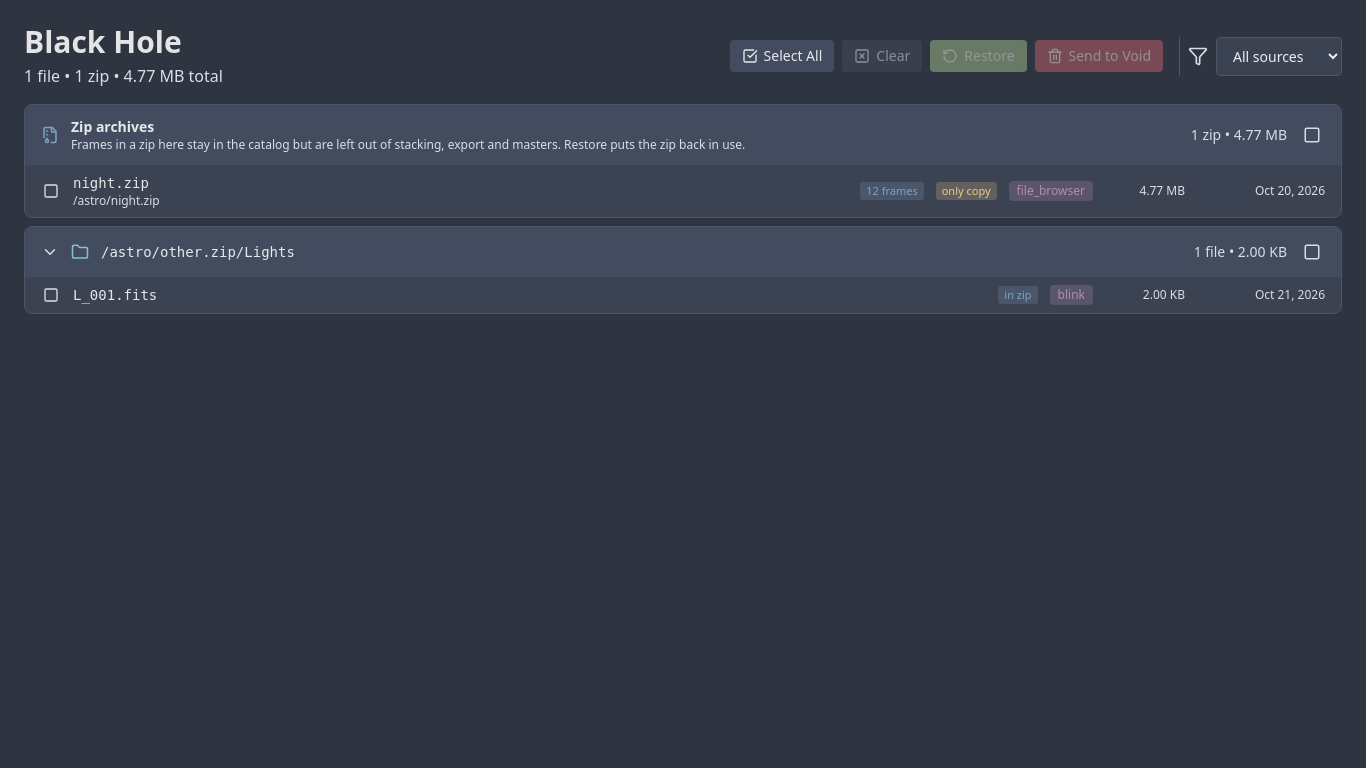
Scenario: BlackHole — zip archives › shows the refusal when a single zip frame cannot be voided
Expected: the element with test id "zip-group" is shown, [24,104,1342,218]
Expected: the text "in zip" is shown, [998,286,1038,304]
Click the button "Select All": (782, 56) [730,40,834,72]
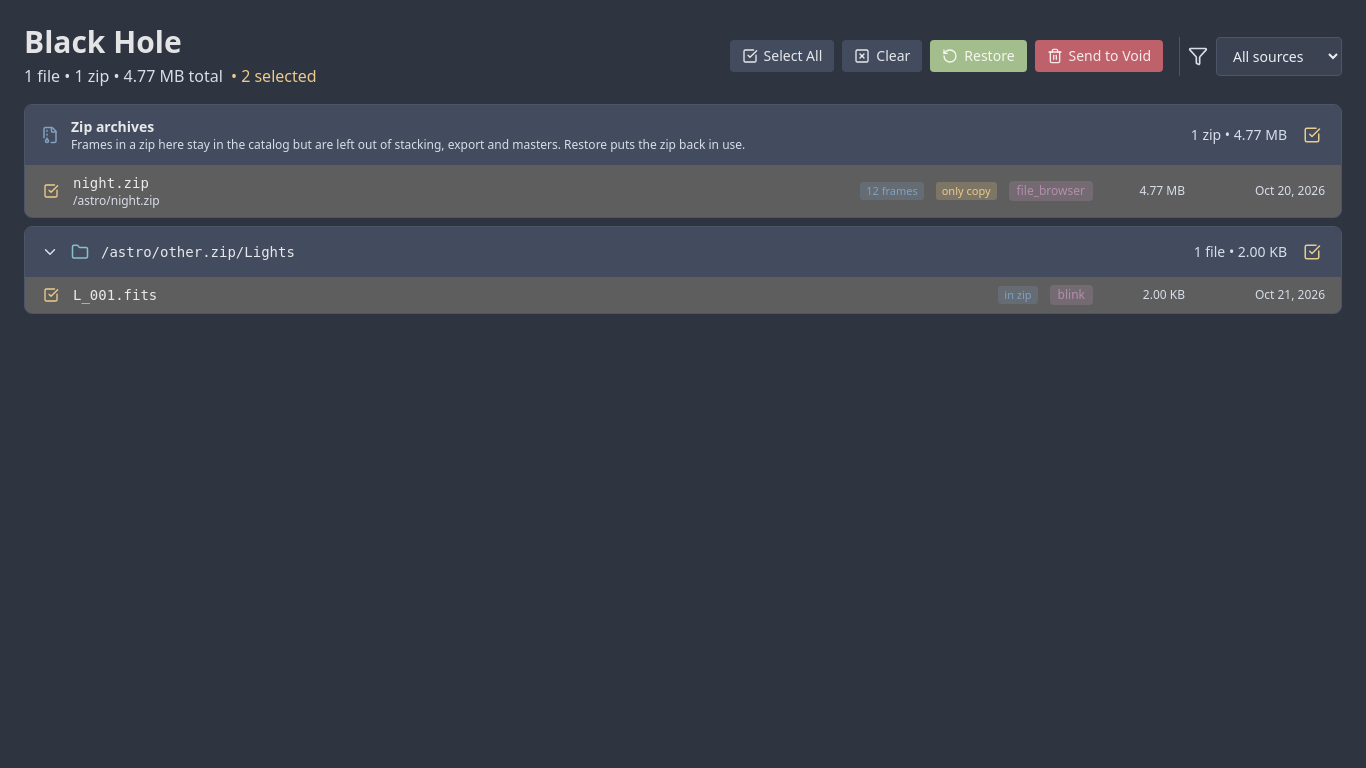
Click the button named "Deselect all zips": (1312, 135) [1299,122,1325,148]
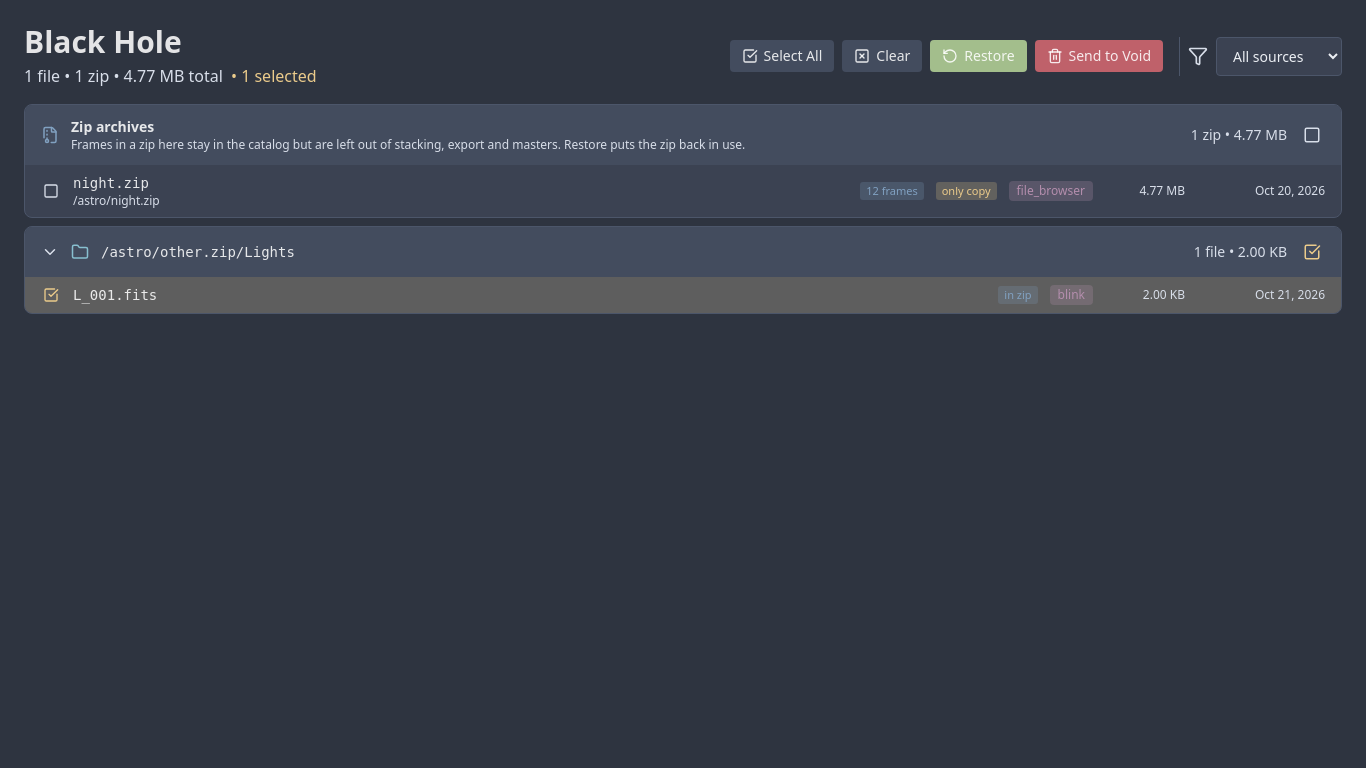
Click the button "Send to Void": (1099, 56) [1034,40,1163,72]
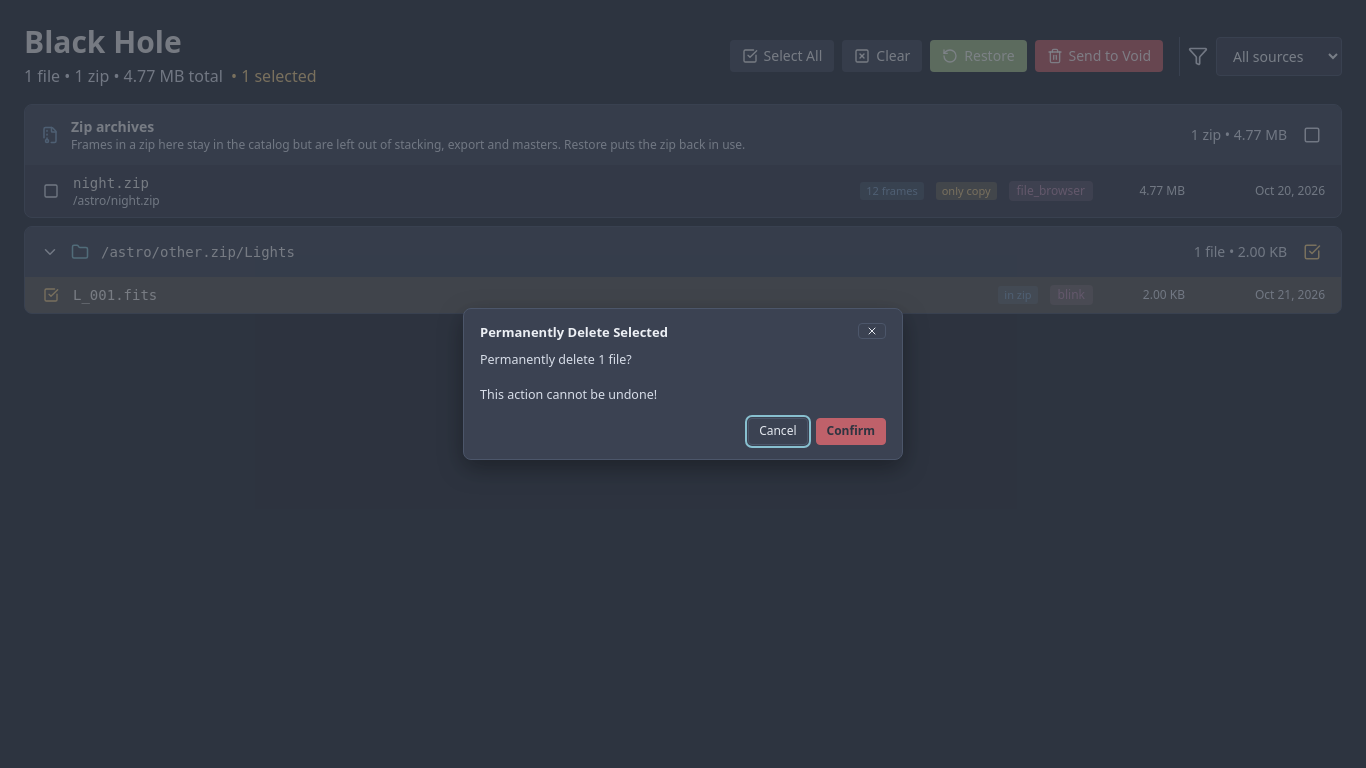
Click the button "Confirm": (851, 431) [816,418,886,445]
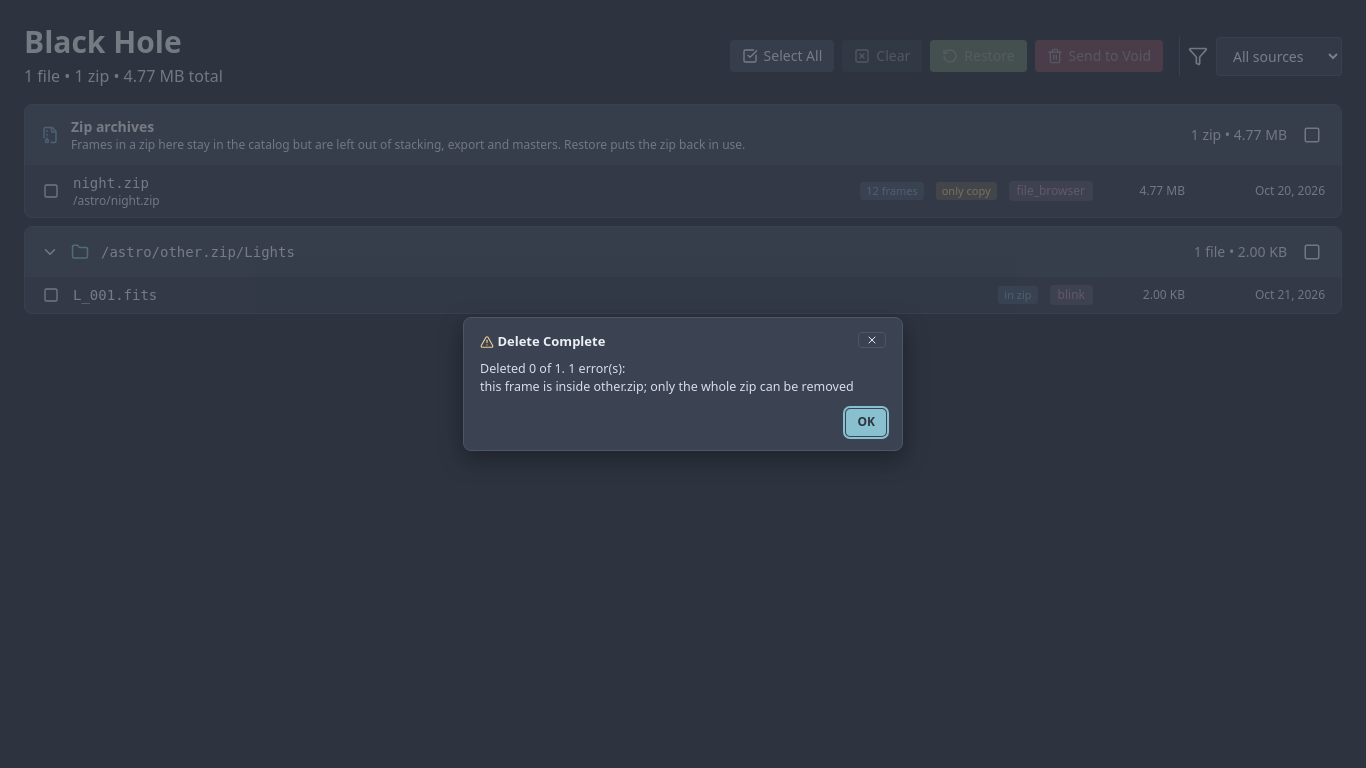
Expected: the text "this frame is inside other.zip; only the whole zip can be removed" is shown, [480,360,854,395]
